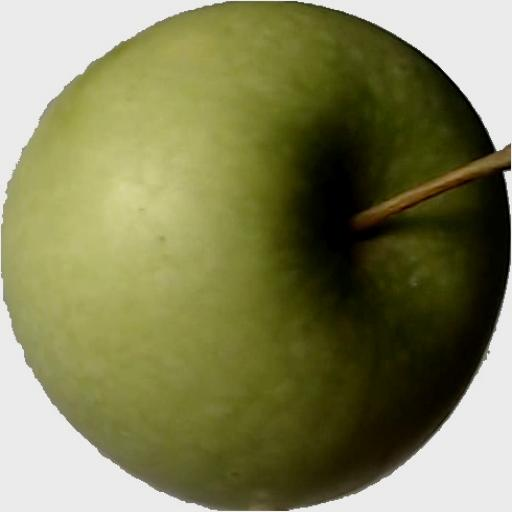apple-unripe: (0, 3, 512, 512)
